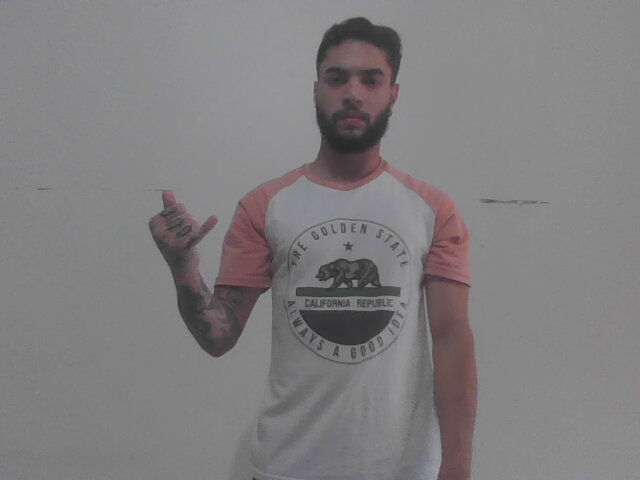j: (141, 183, 221, 276)
